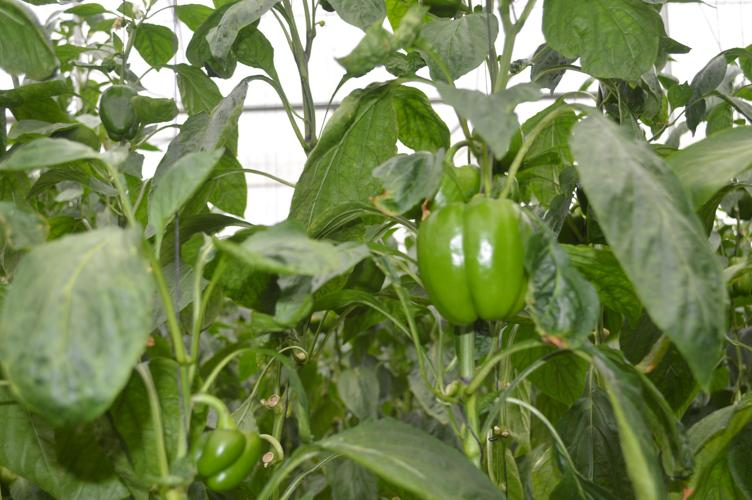BellPepper: (413, 197, 529, 329), (186, 432, 263, 494), (94, 85, 141, 138)
